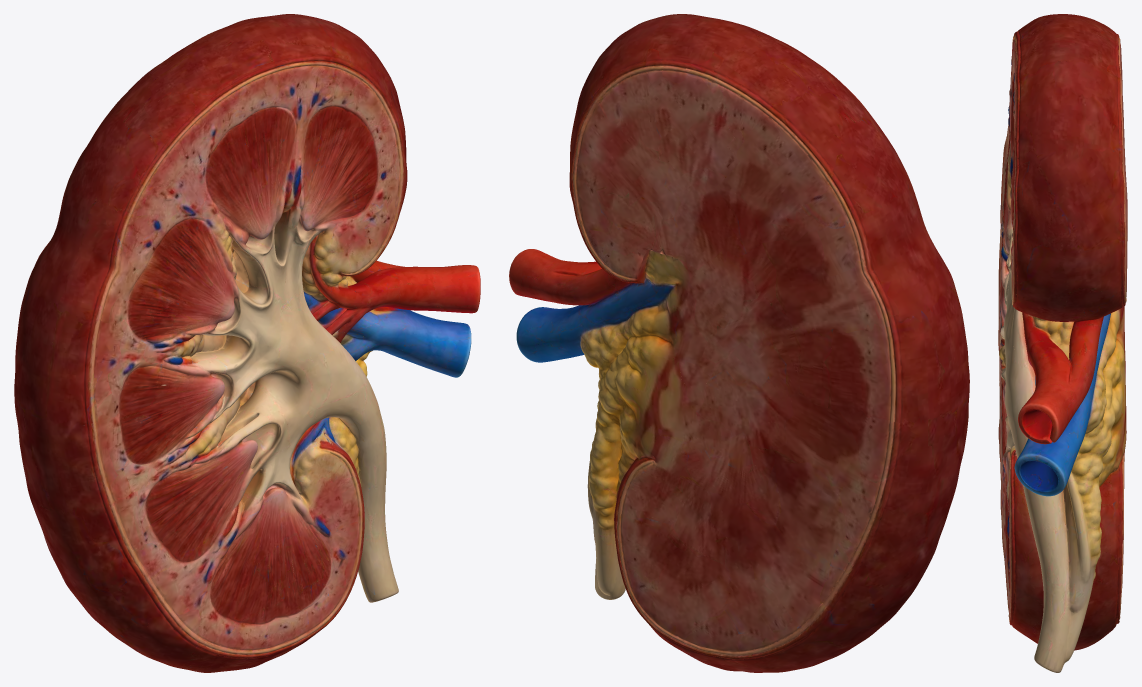
File: rinones.glb
3 views of the same model, side by side, from view 1: azimuth 30°, elevation 25°; view 2: azimuth 150°, elevation 25°; view 3: azimuth 270°, elevation 25° (orthographic). The views are drawn at different scales.
Parts seen in each view (by area): view 1: human-kidney; view 2: human-kidney; view 3: human-kidney.
Boxes of the visible parts, box(x1,y1,x2,y2) form: human-kidney: box(14, 14, 480, 672); human-kidney: box(509, 14, 969, 672); human-kidney: box(998, 14, 1127, 672).
Size of the model in its own units: 0.0888 by 0.12 by 0.0227.
Materials: 1 (1 with a texture image).
